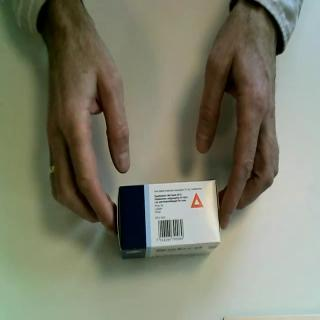sobril25mg: (116, 177, 222, 263)
